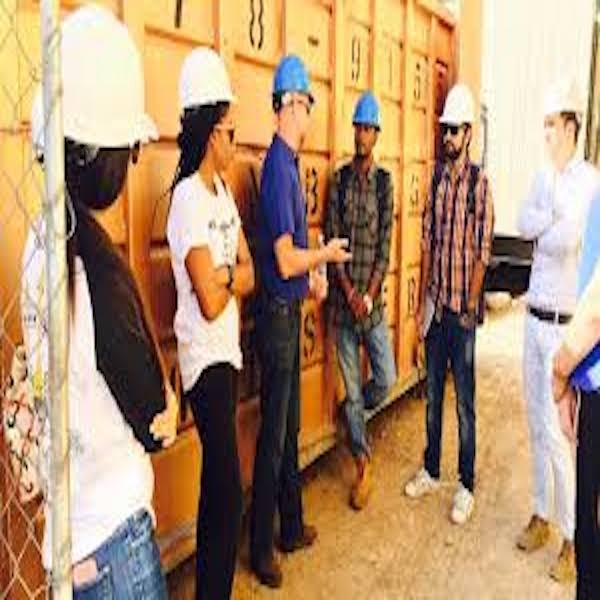helmet: (37, 8, 150, 157), (180, 47, 236, 115), (276, 53, 319, 103), (544, 73, 586, 114), (443, 84, 477, 125), (357, 93, 385, 126)
